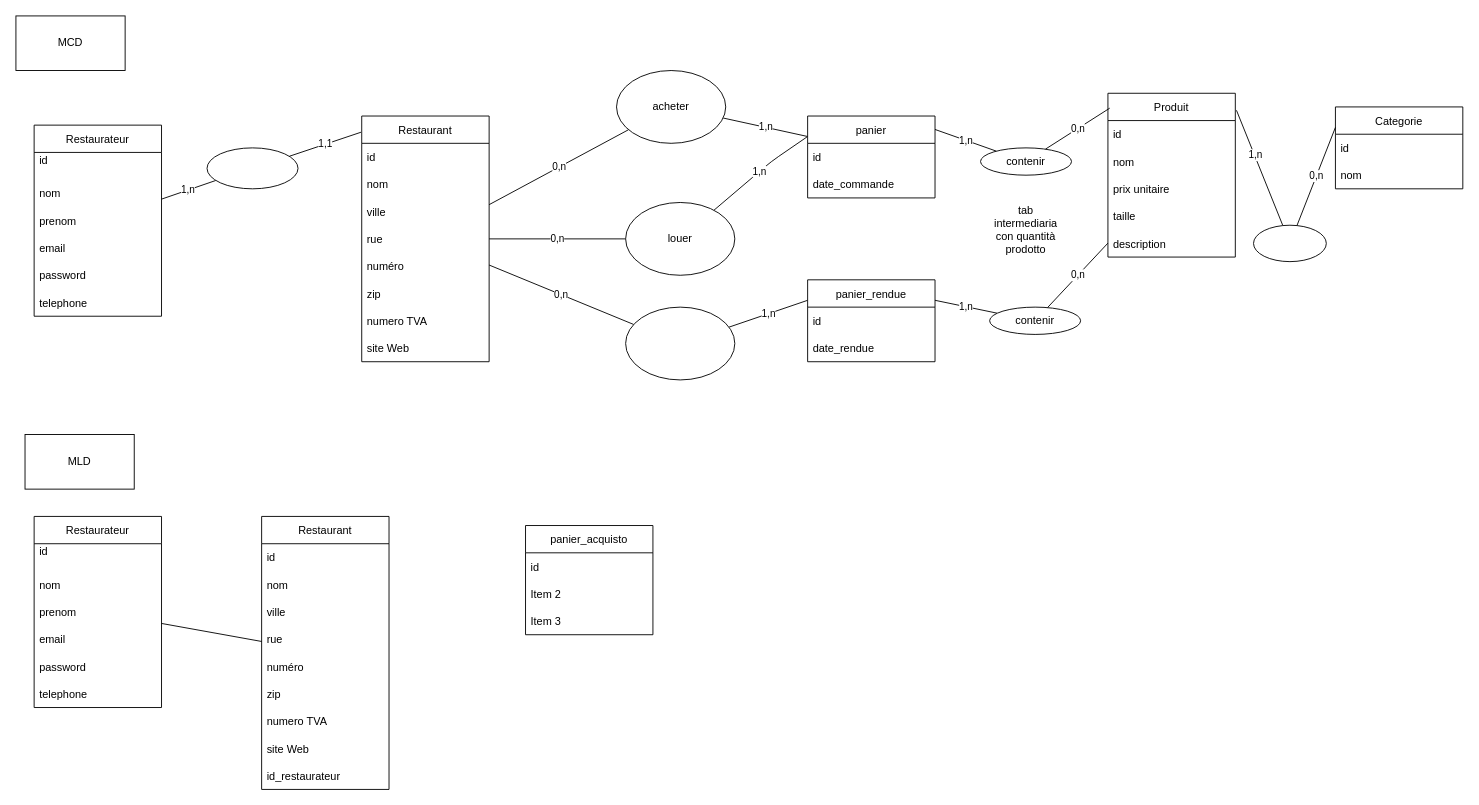
The diagram is 1479 pixels wide and 805 high, and some of its shapes have lost their labels. The shapes that lost their labels are listed below. From the top down, each one's centre as x and y in pixels, then its label:
At point (252, 168): "possede".
At point (1289, 243): "étre".
At point (680, 343): "rendre".
